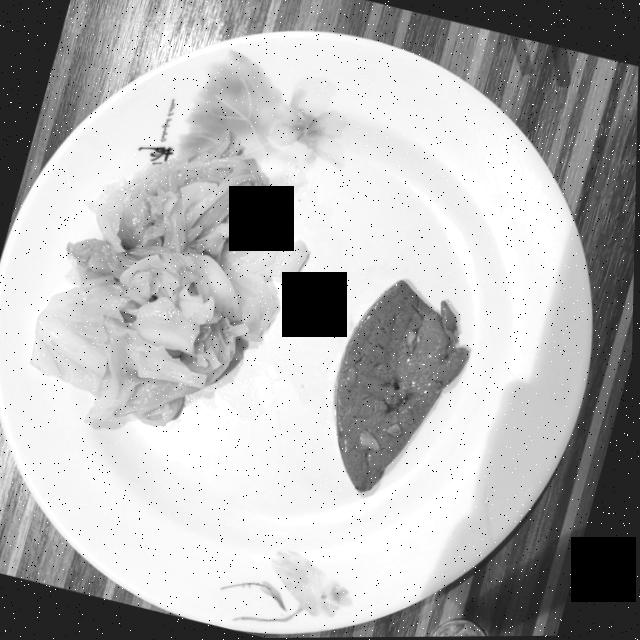cabbage: (33, 135, 309, 425)
coin: (435, 618, 489, 637)
pig liver: (336, 280, 470, 491)
